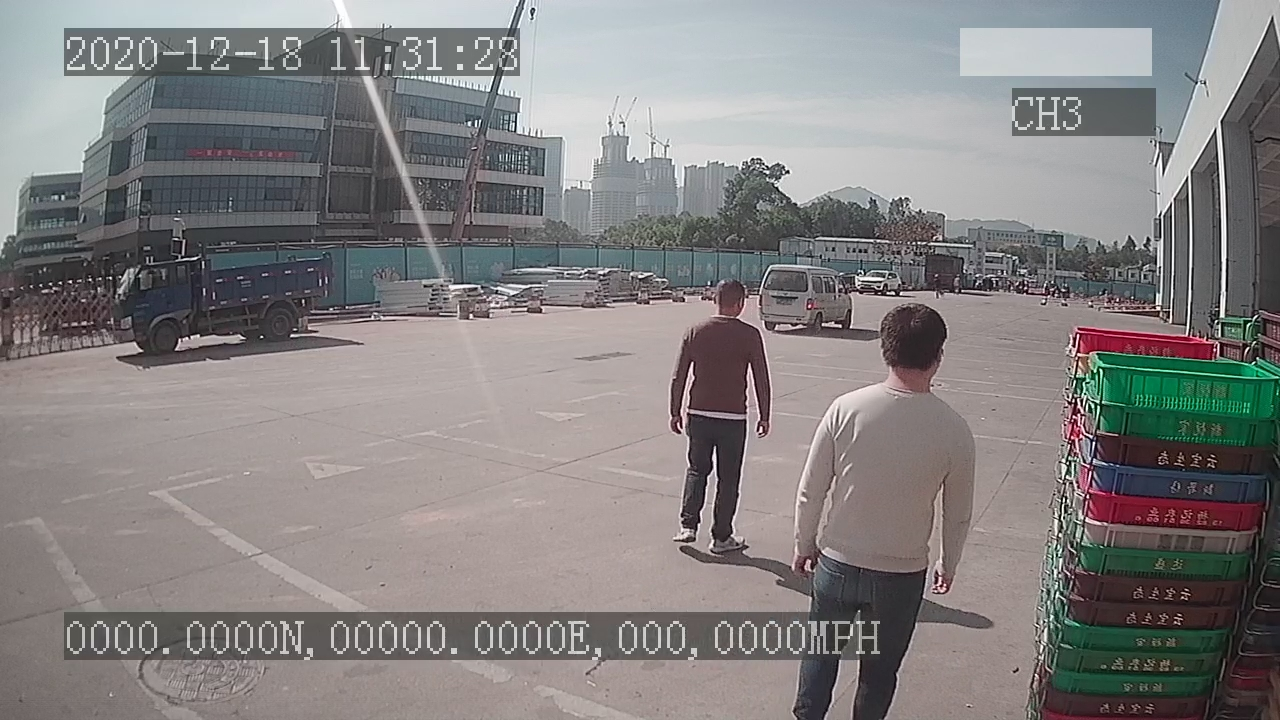person: (669, 277, 771, 552)
